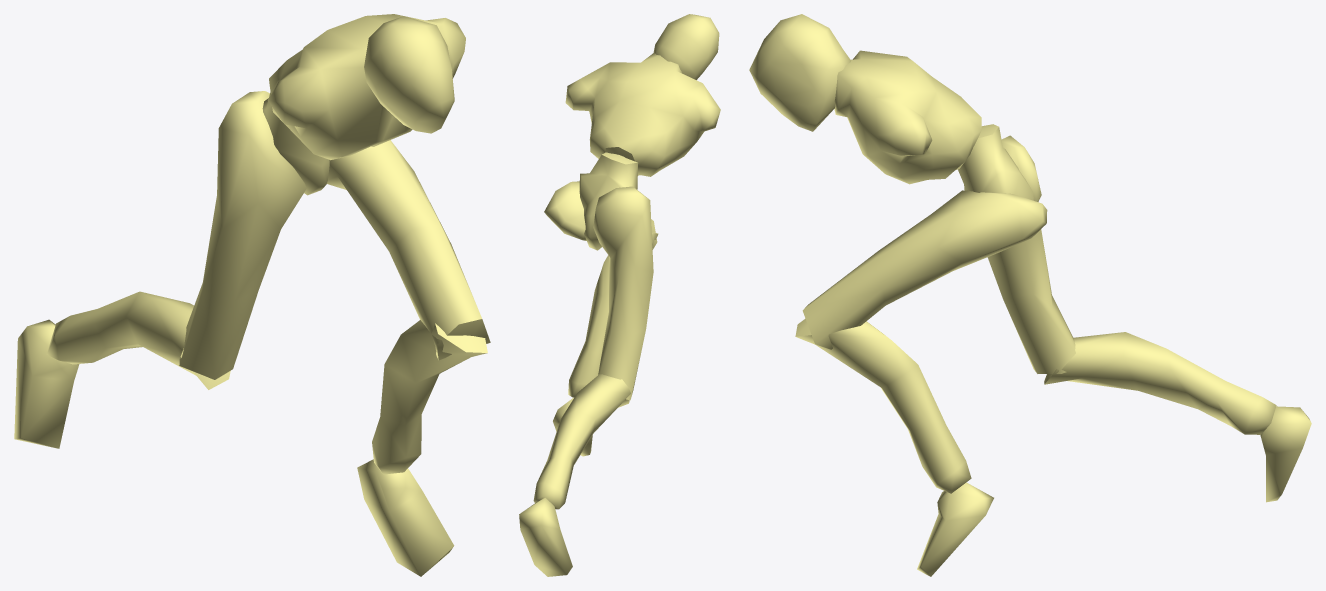
File: filth14.obj
3 renders of one model, left to right at view 1: azimuth 30°, elevation 25°; view 2: azimuth 150°, elevation 25°; view 3: azimuth 270°, elevation 25°, orthographic. The views are drawn at different scales.
Visible parts, largest first — view 1: Melee_Husk; view 2: Melee_Husk; view 3: Melee_Husk.
Boxes of the visible parts, x1,y1,x2,y2 form: Melee_Husk: (14, 14, 490, 576); Melee_Husk: (519, 14, 720, 576); Melee_Husk: (749, 14, 1311, 576).
Size of the model in its own units: 22.07 by 59.73 by 58.63.
